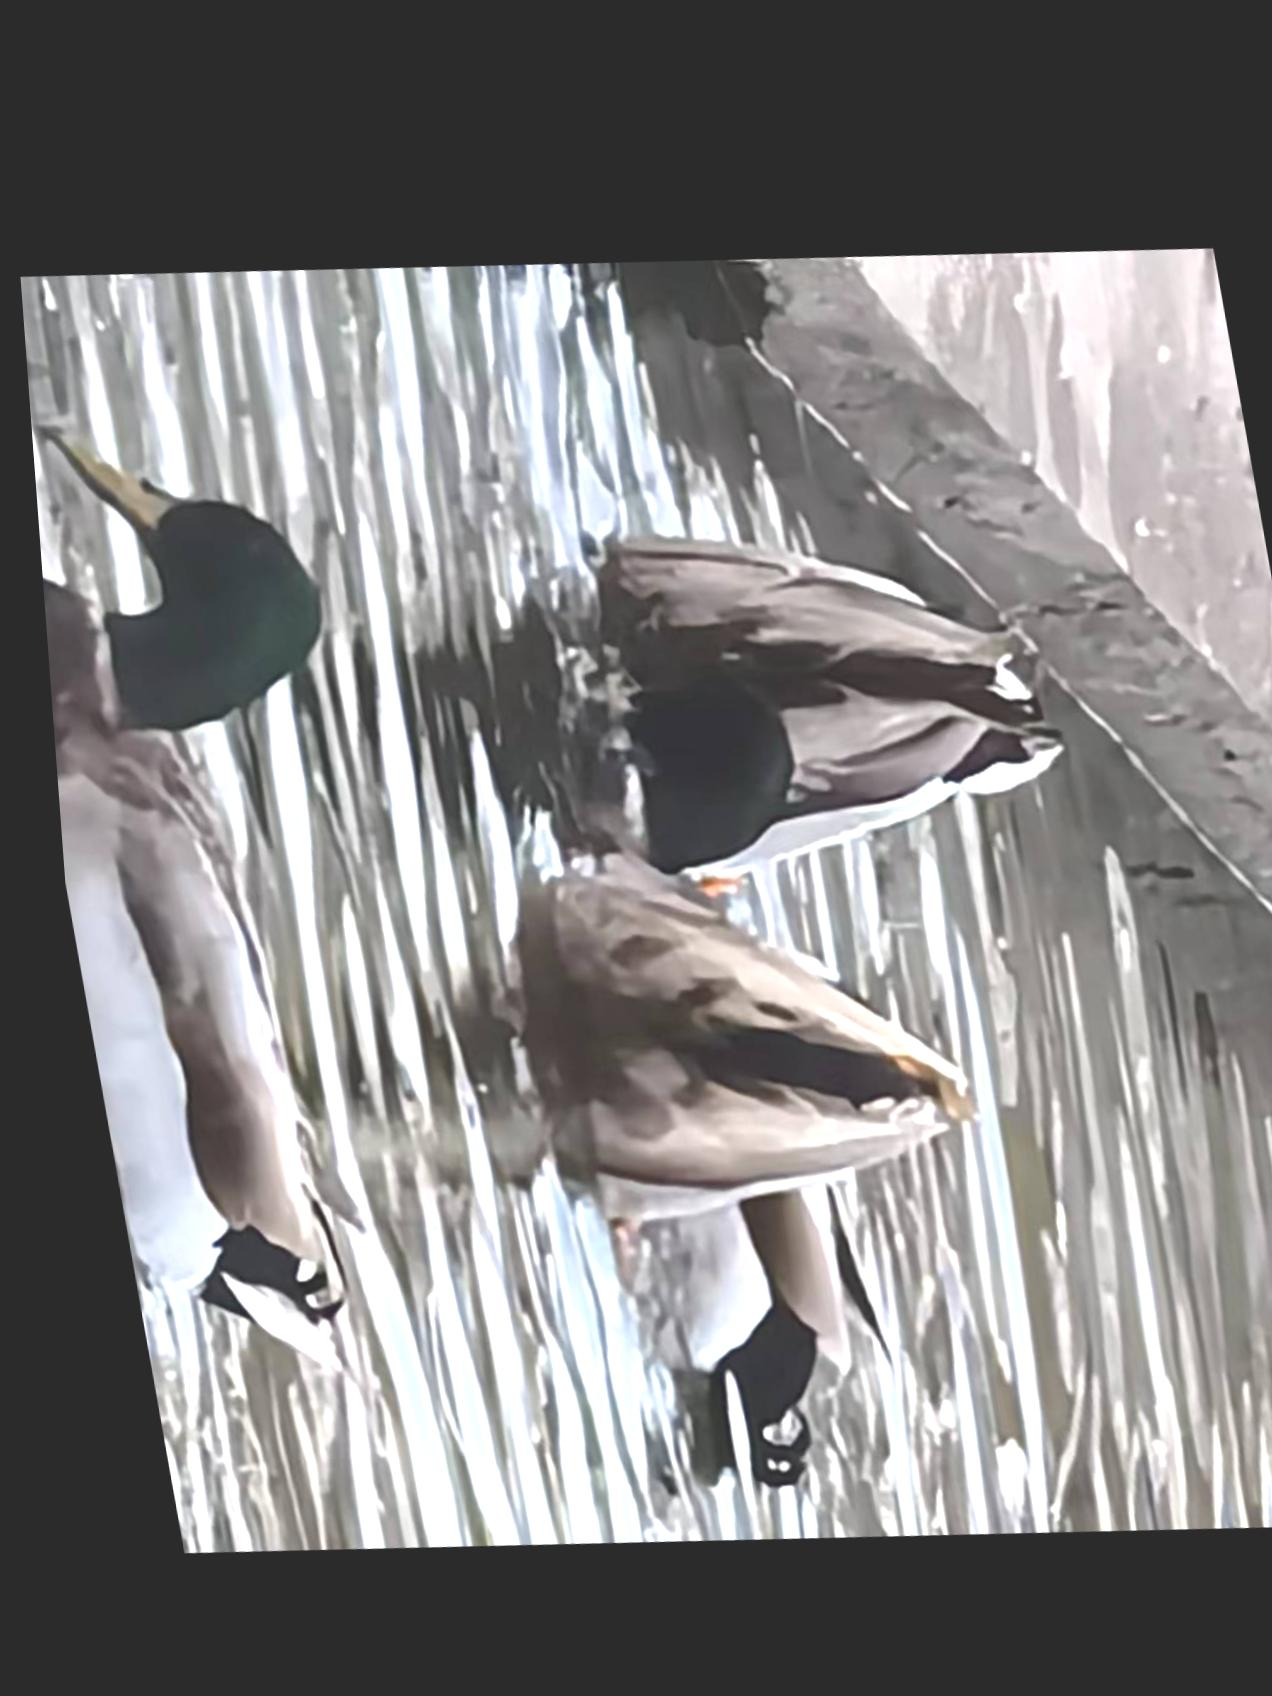duck: (23, 381, 438, 1366), (496, 777, 989, 1266), (563, 475, 1080, 912)
